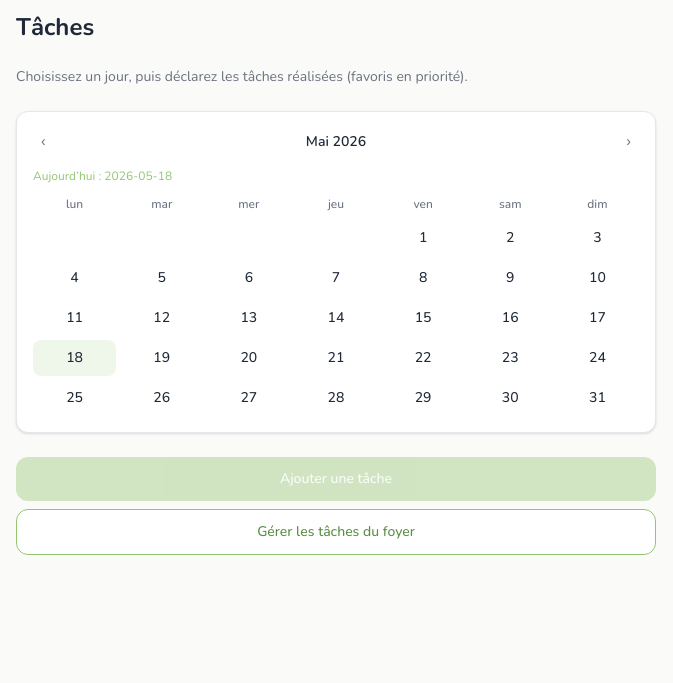
it: TasksPage › enables declaration after selecting a day
Click the button "1" at (423, 238), box [382, 220, 465, 256]
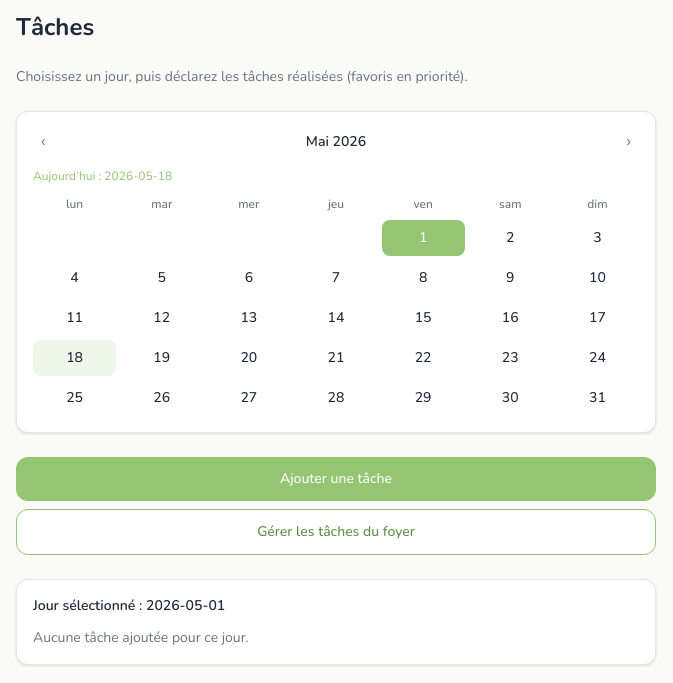
expect the button "Ajouter une tâche" is enabled: met, box [16, 457, 656, 501]
